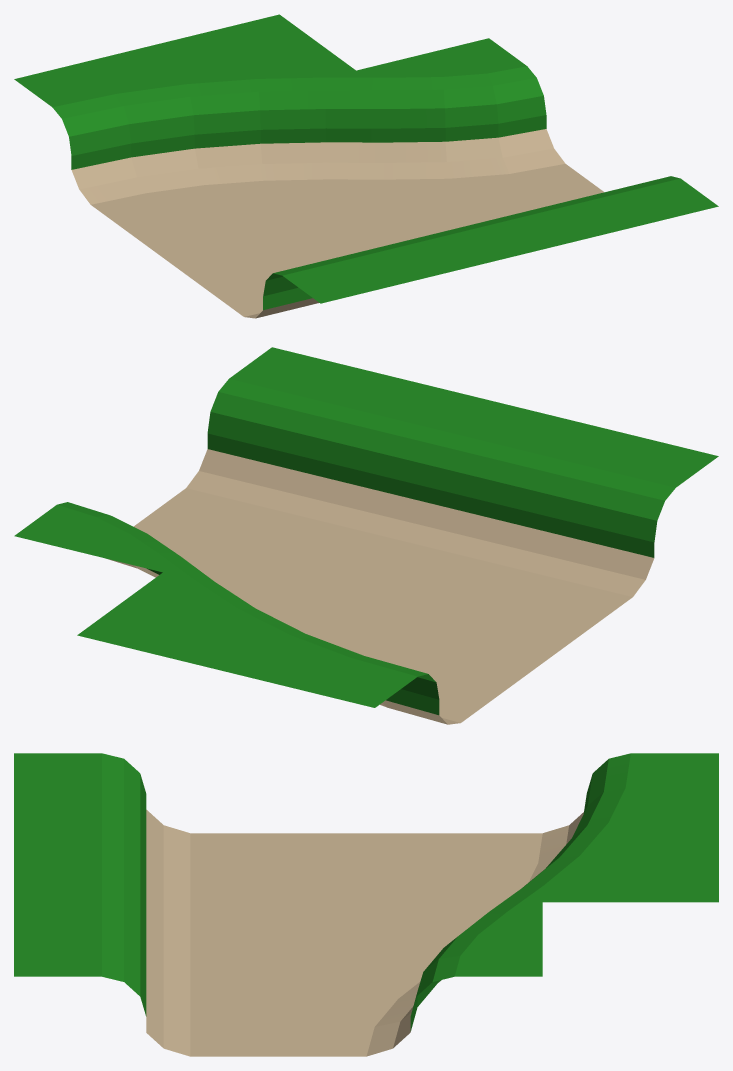
Rendered from Track_Standard_Straight_Widening.obj.
3 views of the same model, one above another, from view 1: azimuth 30°, elevation 25°; view 2: azimuth 150°, elevation 25°; view 3: azimuth 270°, elevation 25° (orthographic). The views are drawn at different scales.
Parts seen in each view (by area): view 1: Grass, Dirt; view 2: Grass, Dirt; view 3: Dirt, Grass.
Part boxes in pixels (<box>): Grass: <box>14,14,718,310</box>; Dirt: <box>71,129,603,318</box>; Grass: <box>14,347,718,715</box>; Dirt: <box>106,449,654,724</box>; Dirt: <box>146,809,583,1056</box>; Grass: <box>14,753,718,1031</box>.
Size of the model in its own units: 3 by 0.5 by 4.
